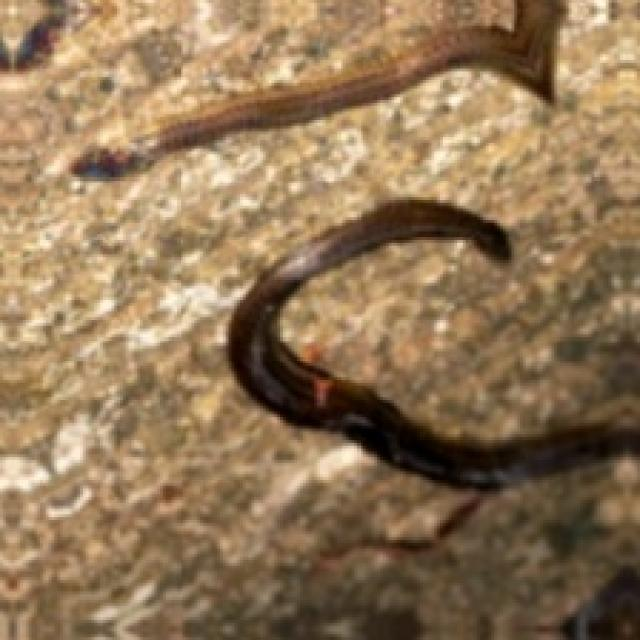gervais worm snake: (229, 200, 637, 489), (71, 0, 563, 177)
